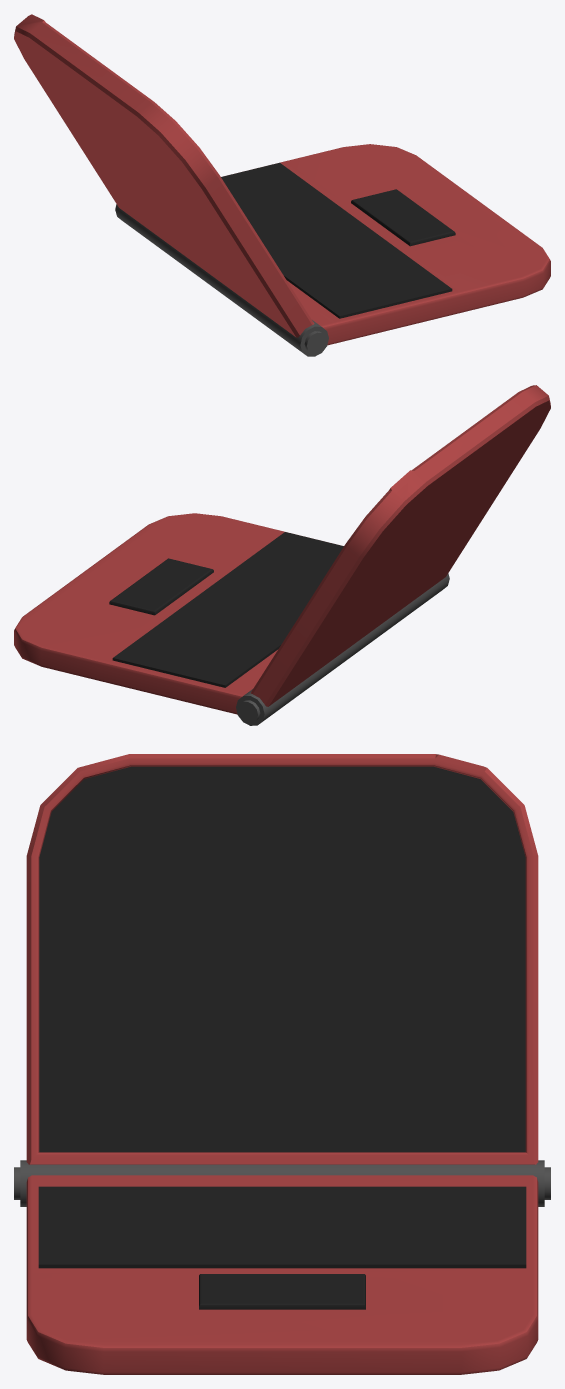
Rendered from laptop.fbx.
The picture shows the model from 3 angles, top to bottom: view 1: azimuth 30°, elevation 25°; view 2: azimuth 150°, elevation 25°; view 3: azimuth 270°, elevation 25°; orthographic projection. The views are drawn at different scales.
Parts seen in each view (by area): view 1: pCube6; view 2: pCube6; view 3: pCube6.
Boxes of the visible parts, left/top/right/bottom form: pCube6: left=14, top=14, right=550, bottom=356; pCube6: left=14, top=385, right=550, bottom=725; pCube6: left=14, top=754, right=550, bottom=1374.
Size of the model in its own units: 232 by 144 by 192.
